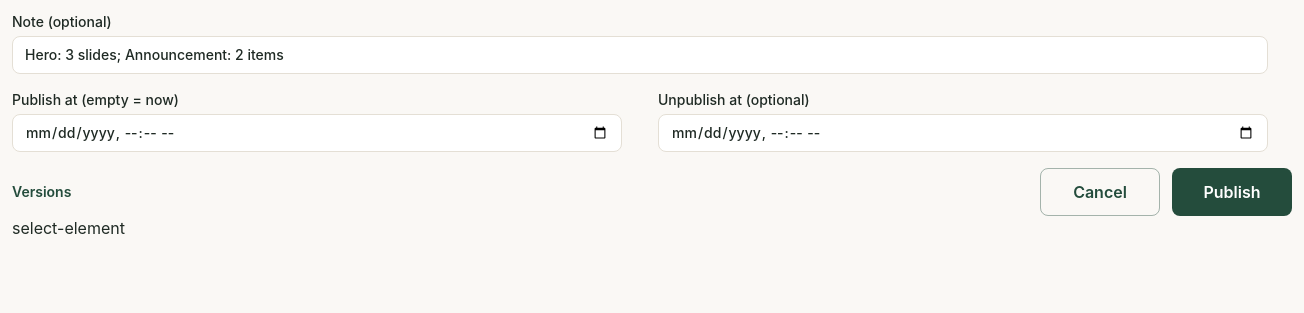
Test: PublishPanel › publishes immediately without confirmation when there are no warnings
Click the button "Publish" at (1232, 192), box [1172,168,1292,216]
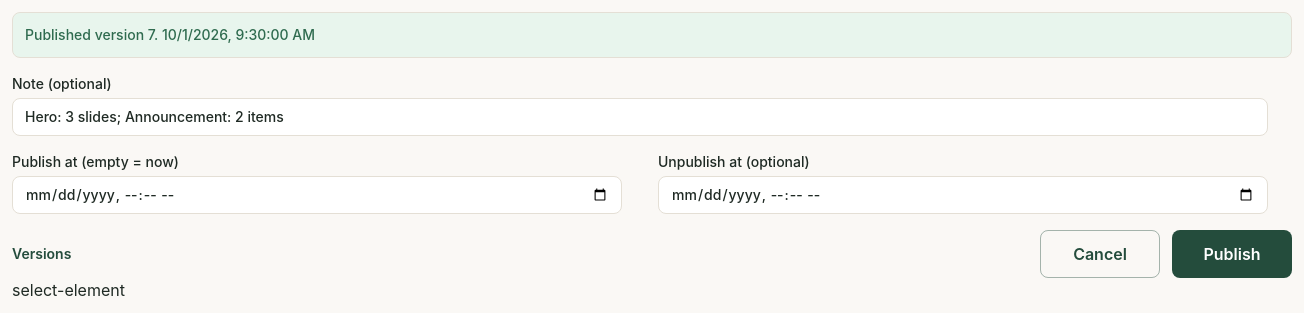
Result: the text "Published version 7. 10/1/2026, 9:30:00 AM" is shown at [12,12,1292,58]
